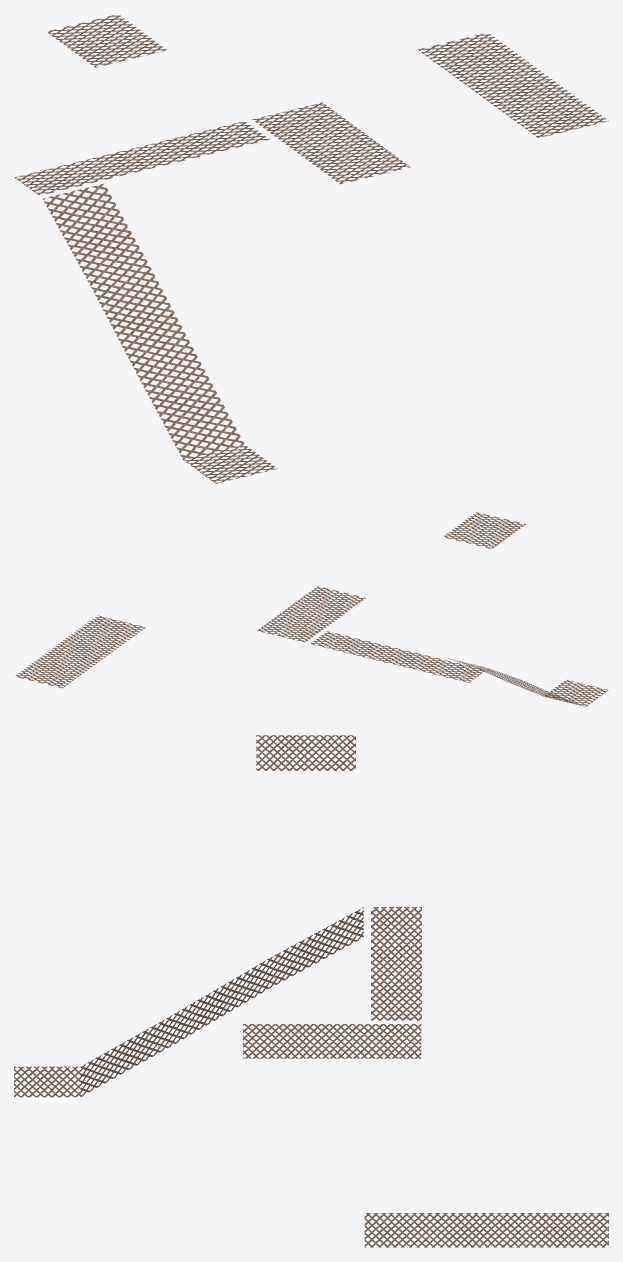
Rendered from SM_NeoLD_12_WireMesh_00.fbx.
The picture shows the model from 3 angles, top to bottom: view 1: azimuth 30°, elevation 25°; view 2: azimuth 150°, elevation 25°; view 3: azimuth 270°, elevation 25°; orthographic projection. The views are drawn at different scales.
Visible parts, largest first — view 1: SM_NeoLD_12_WireMesh_00; view 2: SM_NeoLD_12_WireMesh_00; view 3: SM_NeoLD_12_WireMesh_00.
Boxes of the visible parts, box(x1,y1,x2,y2) form: SM_NeoLD_12_WireMesh_00: box(14, 15, 608, 483); SM_NeoLD_12_WireMesh_00: box(15, 512, 608, 706); SM_NeoLD_12_WireMesh_00: box(14, 735, 608, 1247).
Bounding box in the file's own units: 2541 × 1405 × 2288.
